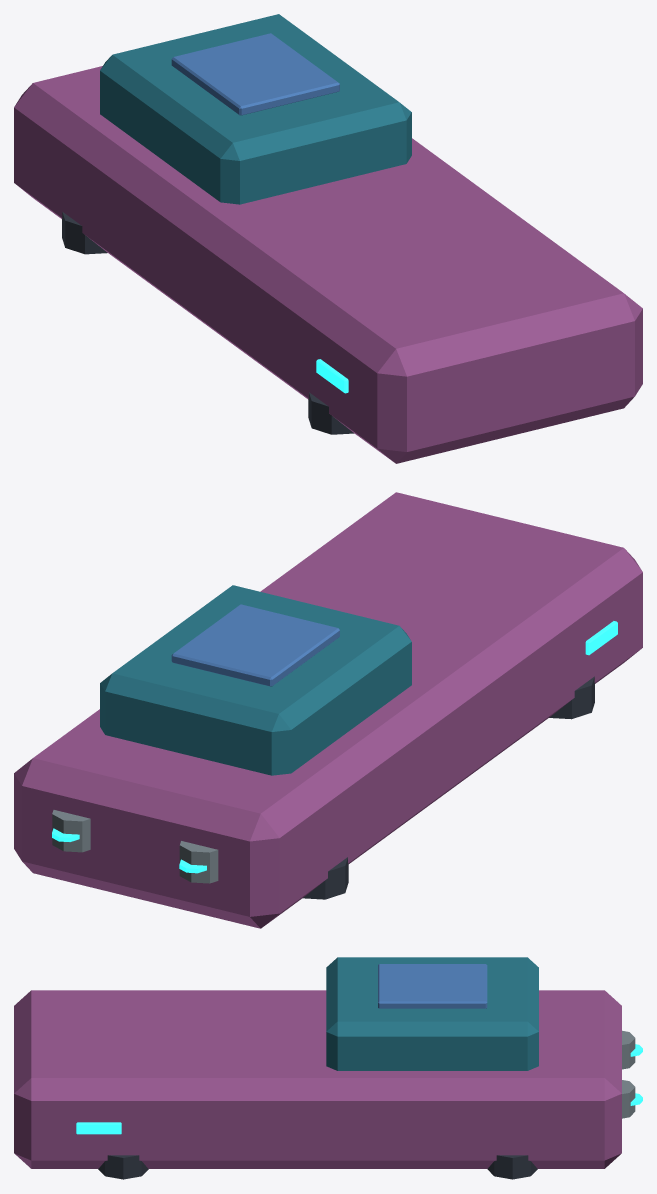
File: vehicles_002_seed100.glb
3 renders of one model, top to bottom at view 1: azimuth 30°, elevation 25°; view 2: azimuth 150°, elevation 25°; view 3: azimuth 270°, elevation 25°, orthographic. The views are drawn at different scales.
Visible parts, largest first — view 1: vehicles_002_seed100; view 2: vehicles_002_seed100; view 3: vehicles_002_seed100.
Boxes of the visible parts, x1=… form: vehicles_002_seed100: x1=14, y1=14, x2=642, y2=463; vehicles_002_seed100: x1=14, y1=492, x2=642, y2=928; vehicles_002_seed100: x1=14, y1=957, x2=642, y2=1179.
Bounding box in the file's own units: 2.36 × 1.49 × 5.82.
